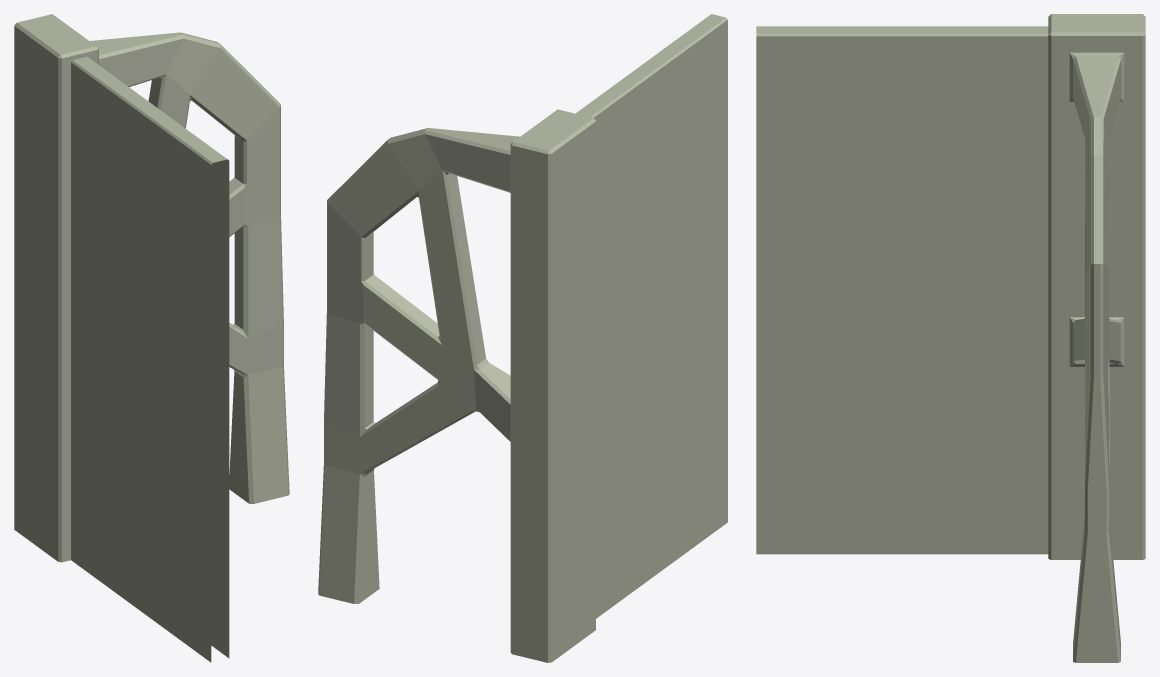
The model's file is Wall Reinforced.fbx.
3 renders of one model, left to right at view 1: azimuth 30°, elevation 25°; view 2: azimuth 150°, elevation 25°; view 3: azimuth 270°, elevation 25°, orthographic. The views are drawn at different scales.
Visible parts, largest first — view 1: Wall_section, Wall_Pillar, Wall_Hidden; view 2: Wall_Pillar, Wall_section, Wall_Hidden; view 3: Wall_section, Wall_Pillar, Wall_Hidden.
Part boxes in pixels (left/top/right/bottom): Wall_section: left=71, top=56, right=229, bottom=662; Wall_Pillar: left=14, top=14, right=280, bottom=562; Wall_Hidden: left=229, top=215, right=289, bottom=503; Wall_Pillar: left=327, top=109, right=595, bottom=662; Wall_section: left=576, top=14, right=727, bottom=618; Wall_Hidden: left=318, top=312, right=475, bottom=603; Wall_section: left=756, top=26, right=1048, bottom=554; Wall_Pillar: left=1048, top=14, right=1145, bottom=559; Wall_Hidden: left=1073, top=360, right=1120, bottom=662.
Size of the model in its own units: 1500 by 2985 by 2000.
